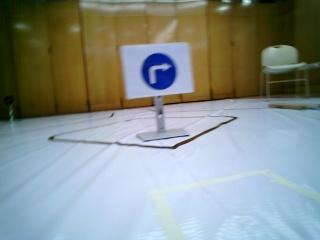right: (122, 46, 194, 92)
